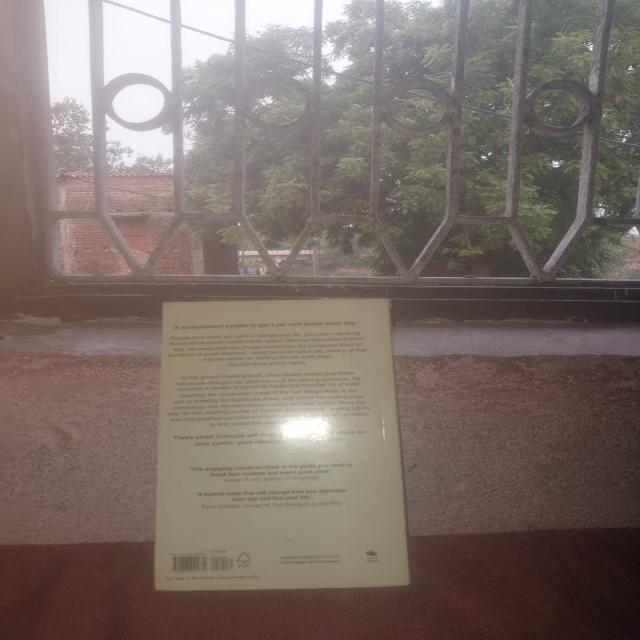Book: (146, 300, 412, 590)
